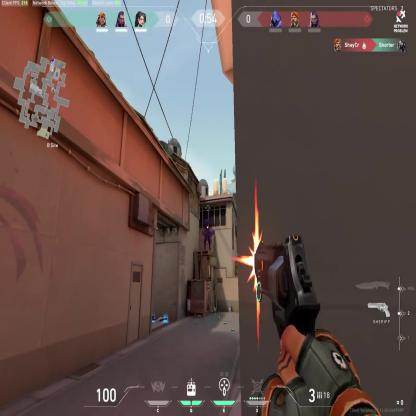enemy: (202, 221, 212, 251)
enemy_head: (205, 222, 208, 228)
